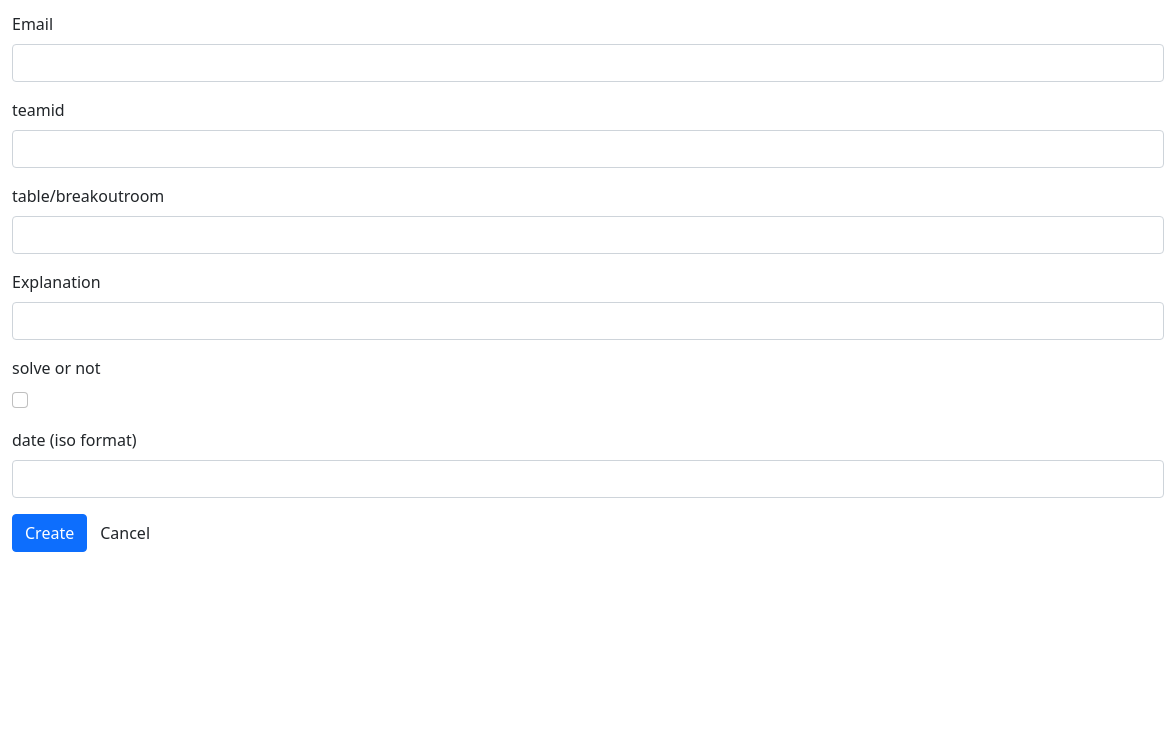
it: HelpRequestsForm tests › Correct Error messsages on missing input
The image size is (1176, 732).
Click the button with test id "HelpRequestsForm-submit" at point(50, 533), box [12, 514, 87, 552]
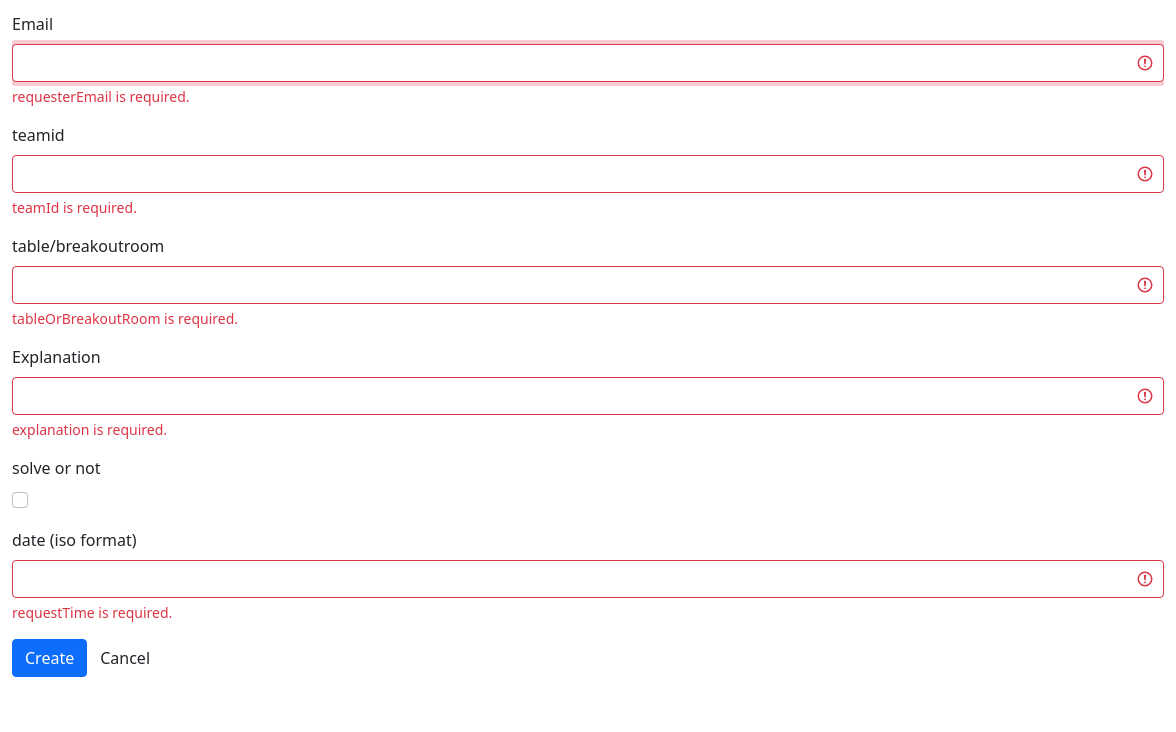
Result: the text "requestTime is required." is shown at [12, 603, 172, 622]
Result: the text "requesterEmail is required." is shown at [12, 87, 190, 106]
Result: the text "explanation is required." is shown at [12, 420, 167, 439]
